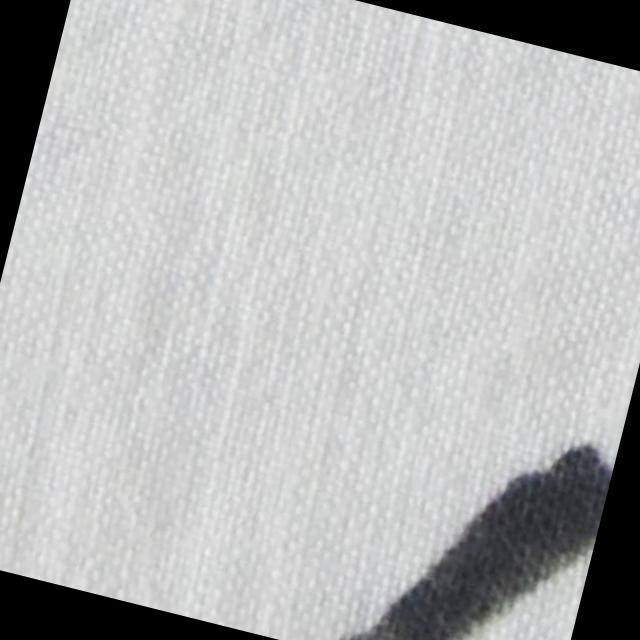Stain: (331, 392, 617, 640)
